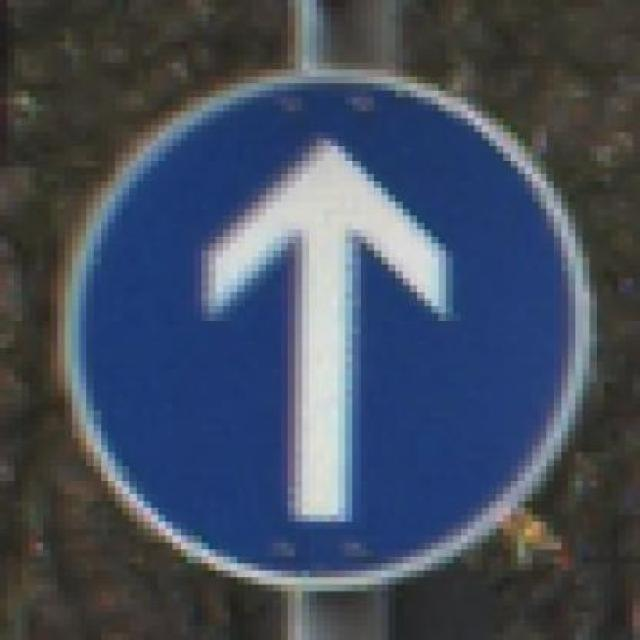Straight Ahead Only: (58, 63, 604, 592)
